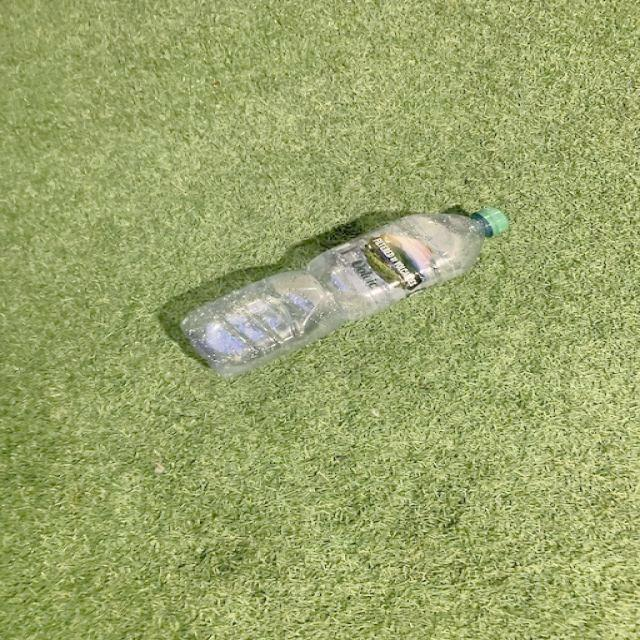bottle: (180, 207, 509, 378)
